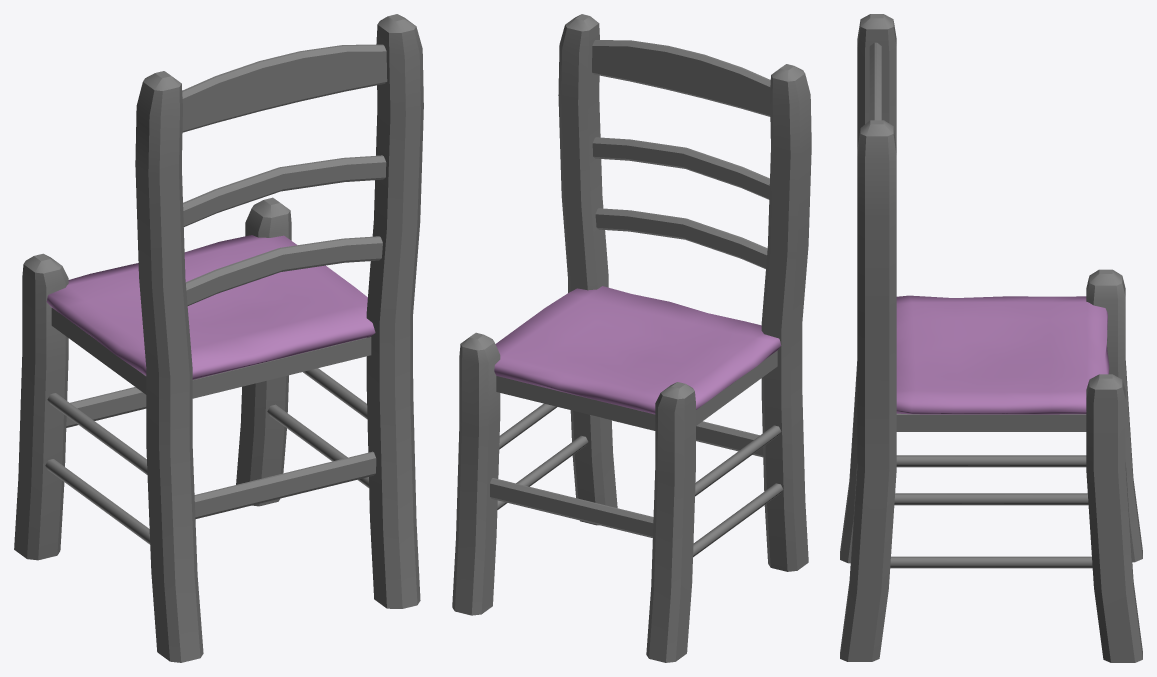
The model's file is Chaise_01.fbx.
3 views of the same model, side by side, from view 1: azimuth 30°, elevation 25°; view 2: azimuth 150°, elevation 25°; view 3: azimuth 270°, elevation 25° (orthographic). The views are drawn at different scales.
Parts seen in each view (by area): view 1: Chaise_01; view 2: Chaise_01; view 3: Chaise_01.
Part boxes in pixels (x1,y1,x2,y2): Chaise_01: [14, 14, 423, 662]; Chaise_01: [452, 14, 811, 662]; Chaise_01: [840, 14, 1142, 662].
Bounding box in the file's own units: 60.09 × 120 × 61.21.
